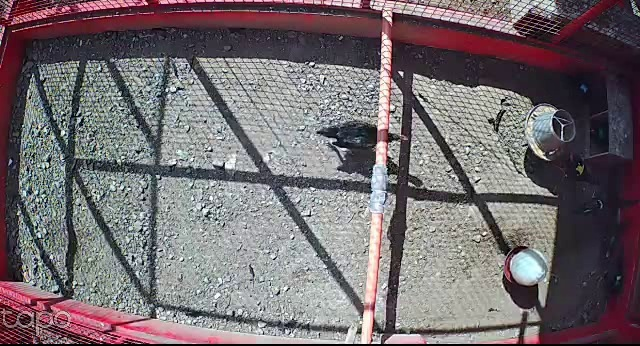Chicken: (315, 114, 414, 153), (552, 148, 604, 186)
Drinker: (504, 245, 550, 285)
Feeder: (525, 103, 578, 161)
Saddle_Color_Yellow: (574, 161, 587, 175)
